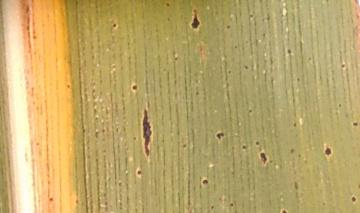tarspot: (140, 105, 155, 159), (189, 11, 201, 32), (258, 148, 269, 167), (324, 144, 333, 160), (214, 129, 225, 141), (349, 193, 358, 206), (129, 82, 139, 93), (200, 176, 209, 187), (134, 167, 143, 178), (350, 119, 359, 129), (111, 21, 119, 31)
